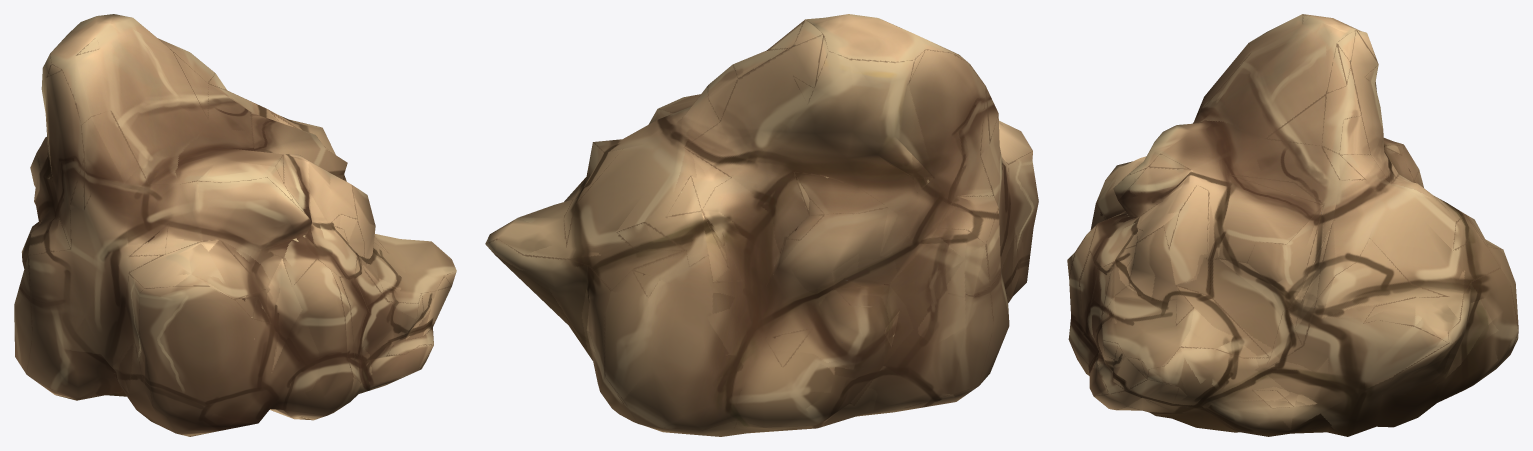
File: StoneBig.fbx
The picture shows the model from 3 angles, left to right: view 1: azimuth 30°, elevation 25°; view 2: azimuth 150°, elevation 25°; view 3: azimuth 270°, elevation 25°; orthographic projection. The views are drawn at different scales.
Parts seen in each view (by area): view 1: Cube.002; view 2: Cube.002; view 3: Cube.002.
Part boxes in pixels (<box>): Cube.002: <box>14,14,456,436</box>; Cube.002: <box>485,14,1038,436</box>; Cube.002: <box>1067,14,1518,436</box>.
Bounding box in the file's own units: 2.07 × 1.91 × 2.35.
